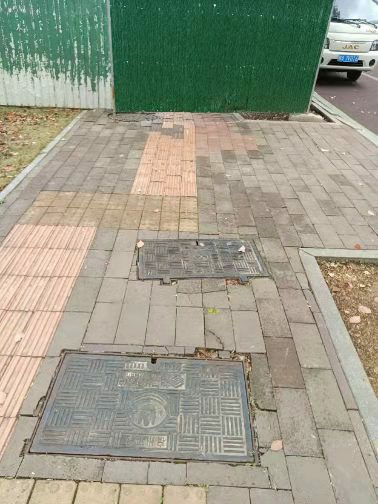good: (23, 349, 261, 468), (137, 236, 272, 287)
